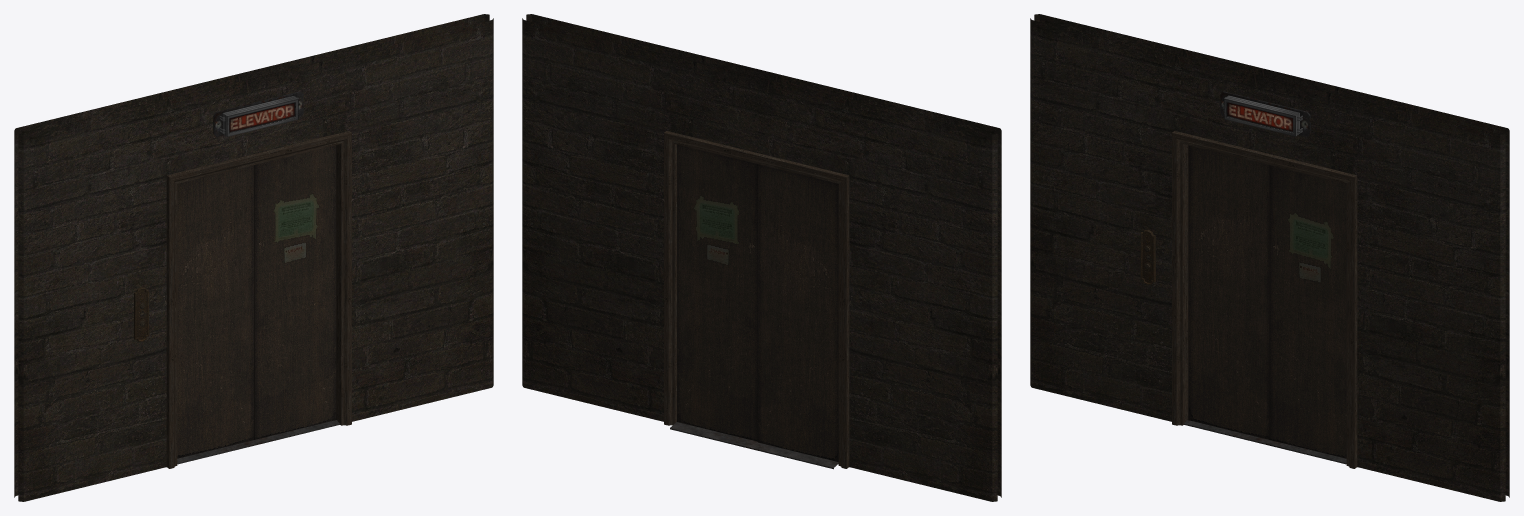
File: elevator_doorway_3.glb
3 views of the same model, side by side, from view 1: azimuth 30°, elevation 25°; view 2: azimuth 150°, elevation 25°; view 3: azimuth 330°, elevation 25° (orthographic).
Parts seen in each view (by area): view 1: elevator_doorway_3, elevator_door_6_a, elevator_door_6_b; view 2: elevator_doorway_3, elevator_door_6_b, elevator_door_6_a; view 3: elevator_doorway_3, elevator_door_6_b, elevator_door_6_a.
Part boxes in pixels (x1,y1,x2,y2): elevator_doorway_3: [14, 14, 493, 501]; elevator_door_6_a: [254, 145, 336, 439]; elevator_door_6_b: [177, 165, 253, 458]; elevator_doorway_3: [522, 14, 1001, 501]; elevator_door_6_b: [758, 164, 838, 464]; elevator_door_6_a: [677, 144, 757, 441]; elevator_doorway_3: [1030, 14, 1509, 501]; elevator_door_6_b: [1188, 145, 1269, 439]; elevator_door_6_a: [1269, 165, 1346, 458].
Size of the model in its own units: 4.06 by 3 by 0.29.
6 materials, 6 textured.
